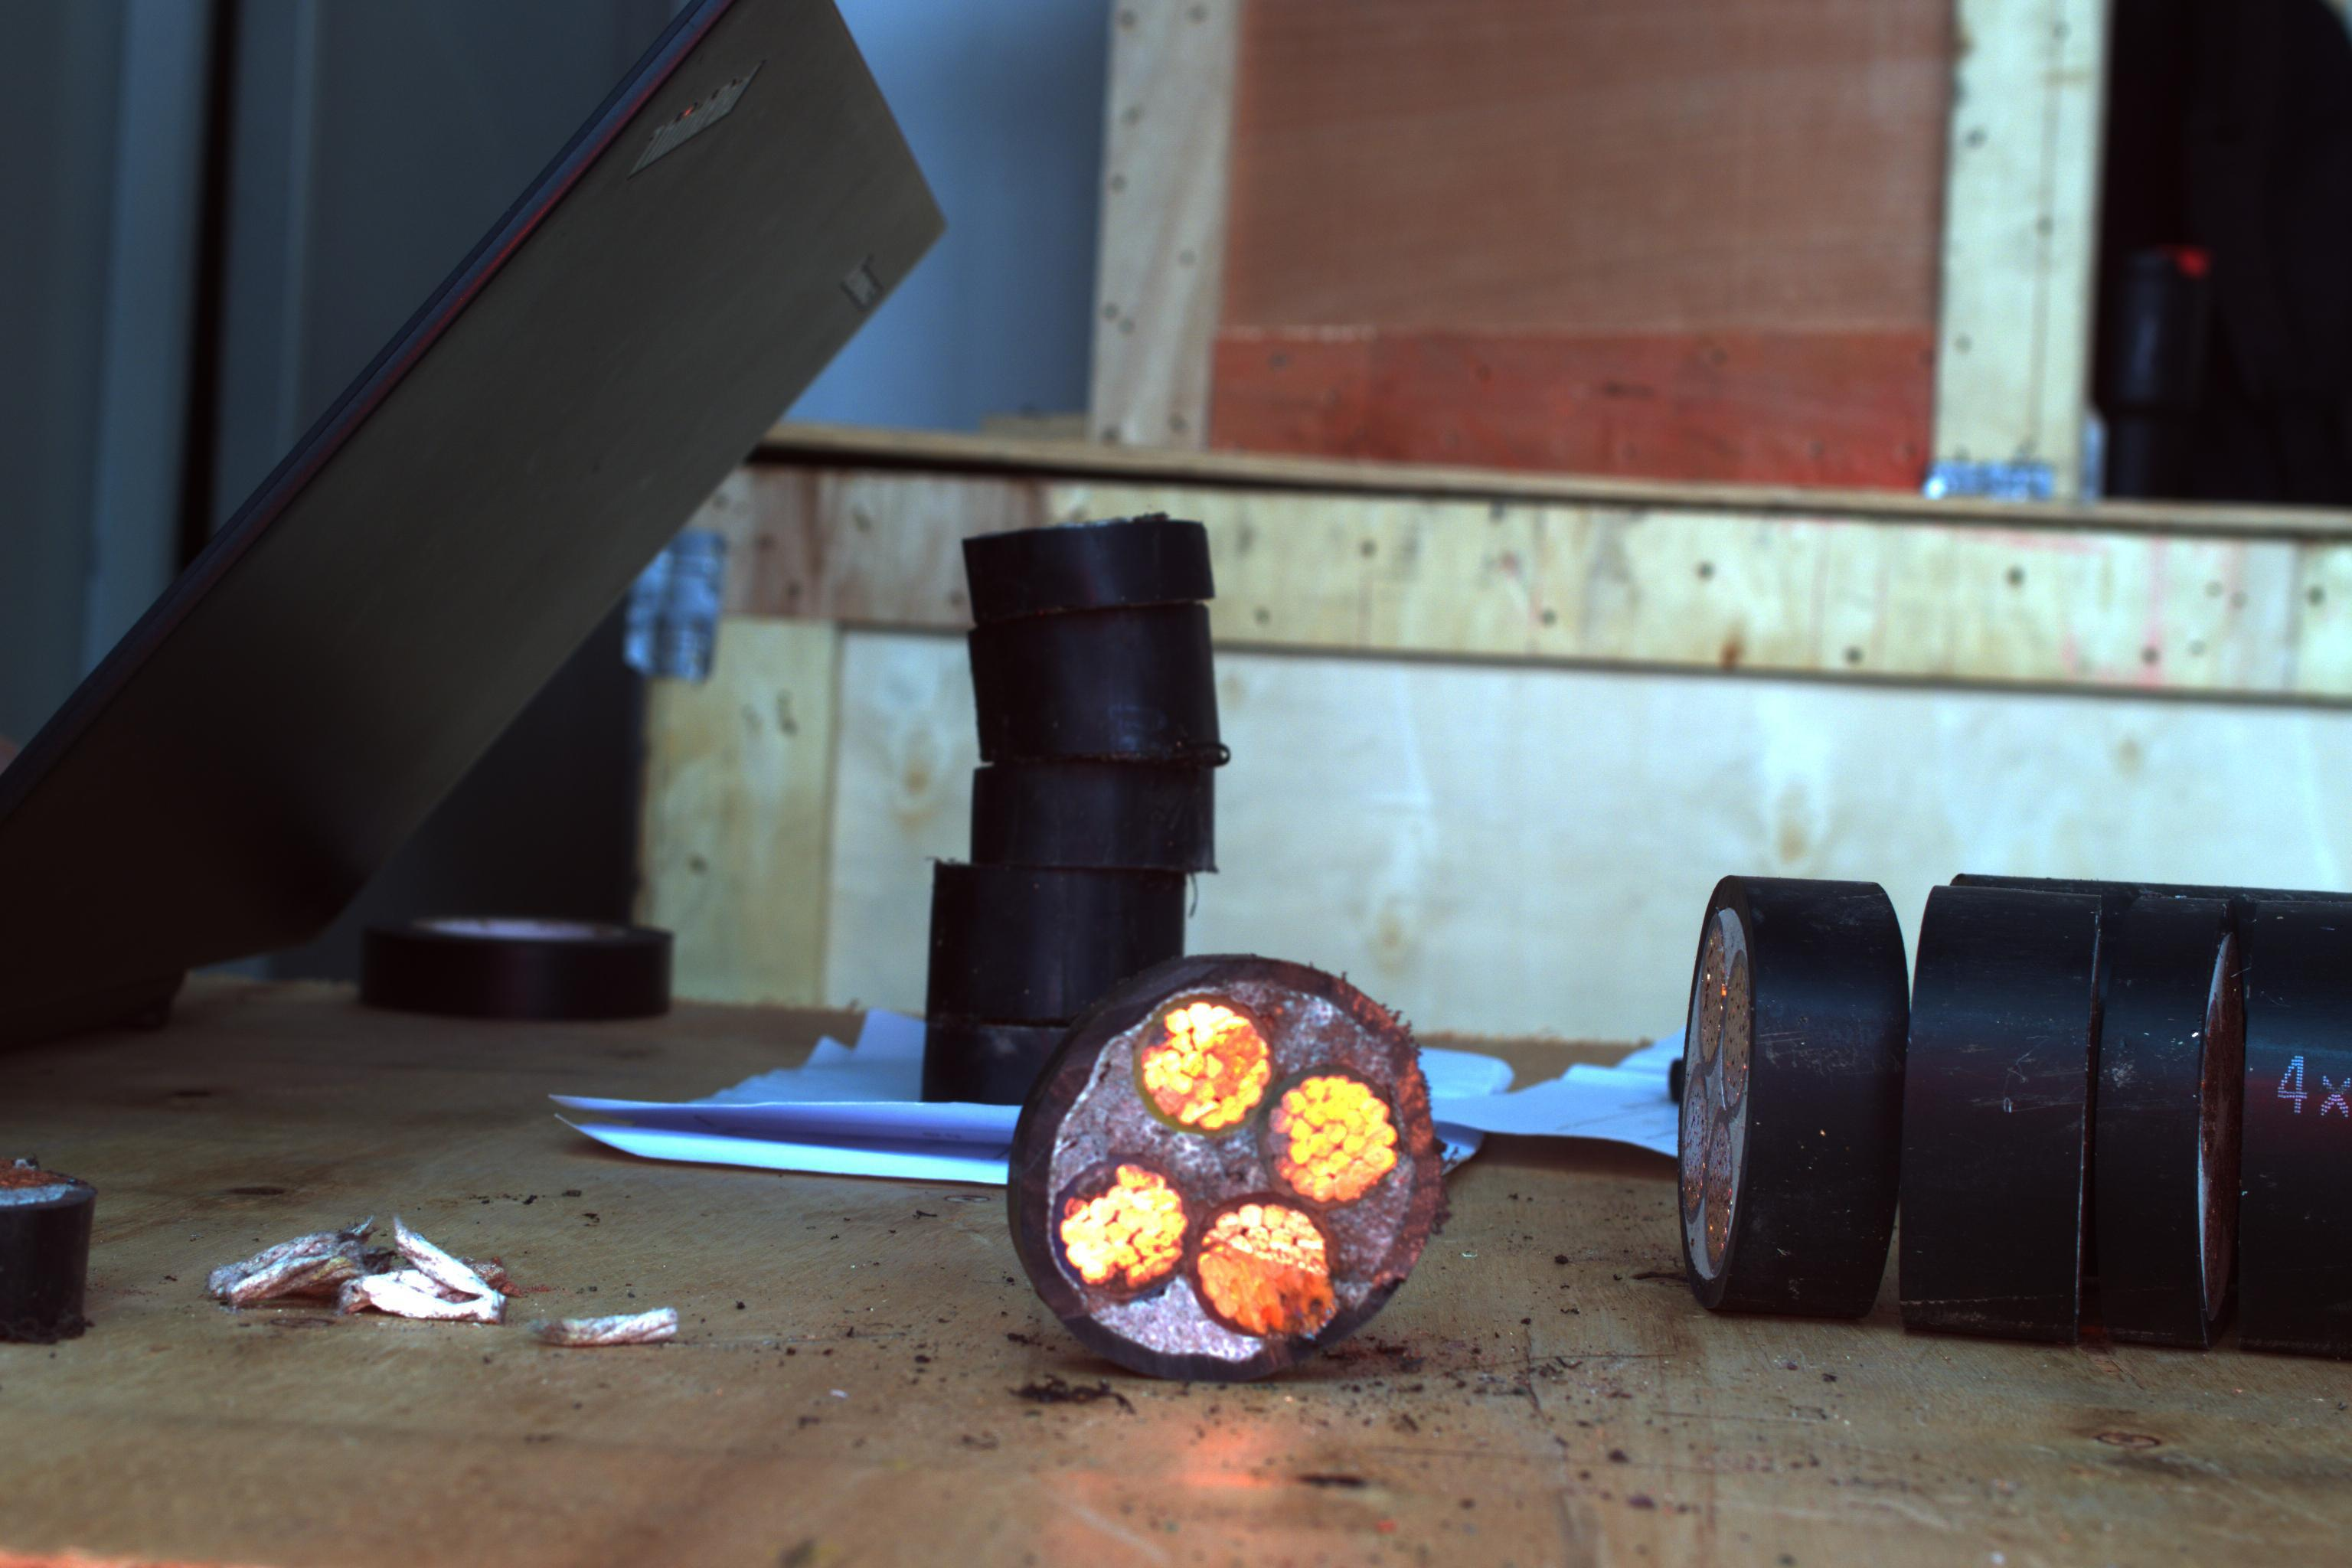YJV_0.6_1kV_4x120: (1013, 938, 1445, 1361)
